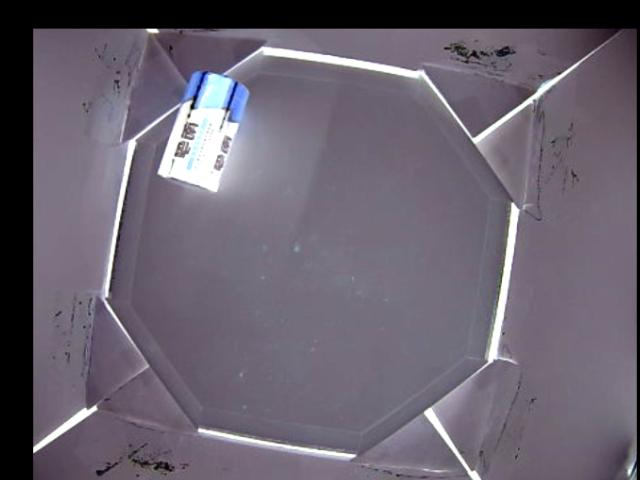Battery: (158, 68, 248, 191)
